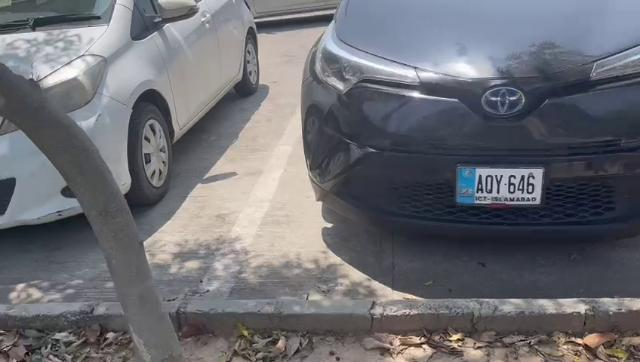plate: (457, 166, 543, 204)
